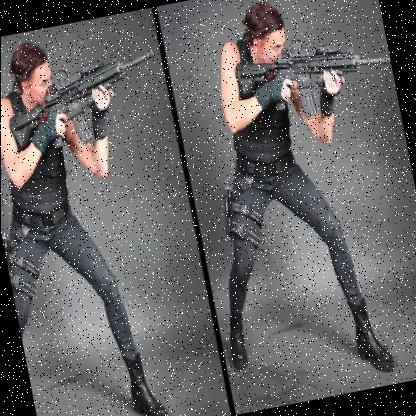rifle: (0, 31, 163, 164), (228, 13, 395, 135), (216, 179, 242, 238), (1, 230, 22, 291)
